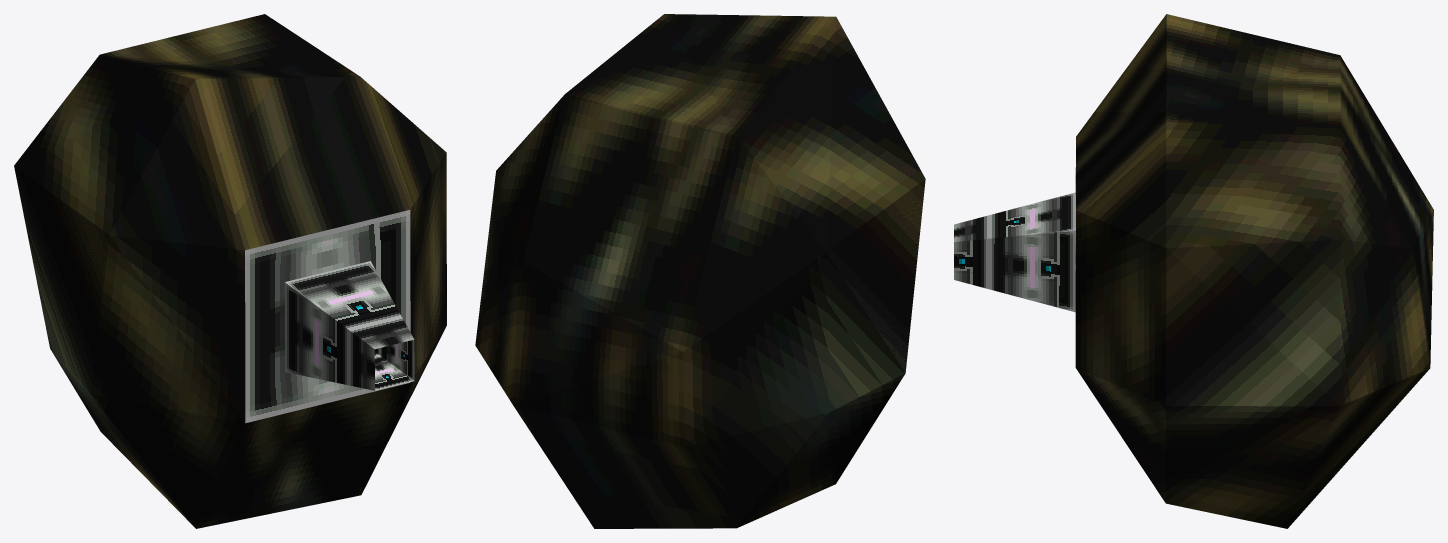
The model's file is fake_rock.fbx.
The picture shows the model from 3 angles, left to right: view 1: azimuth 30°, elevation 25°; view 2: azimuth 150°, elevation 25°; view 3: azimuth 270°, elevation 25°; orthographic projection. The views are drawn at different scales.
Parts seen in each view (by area): view 1: laser_cannon.001; view 2: laser_cannon.001; view 3: laser_cannon.001.
Boxes of the visible parts, bbox=[...] form: laser_cannon.001: bbox=[14, 14, 446, 528]; laser_cannon.001: bbox=[475, 14, 925, 528]; laser_cannon.001: bbox=[954, 14, 1433, 528].
Size of the model in its own units: 4084 by 5599 by 5520.
2 materials, 2 textured.
